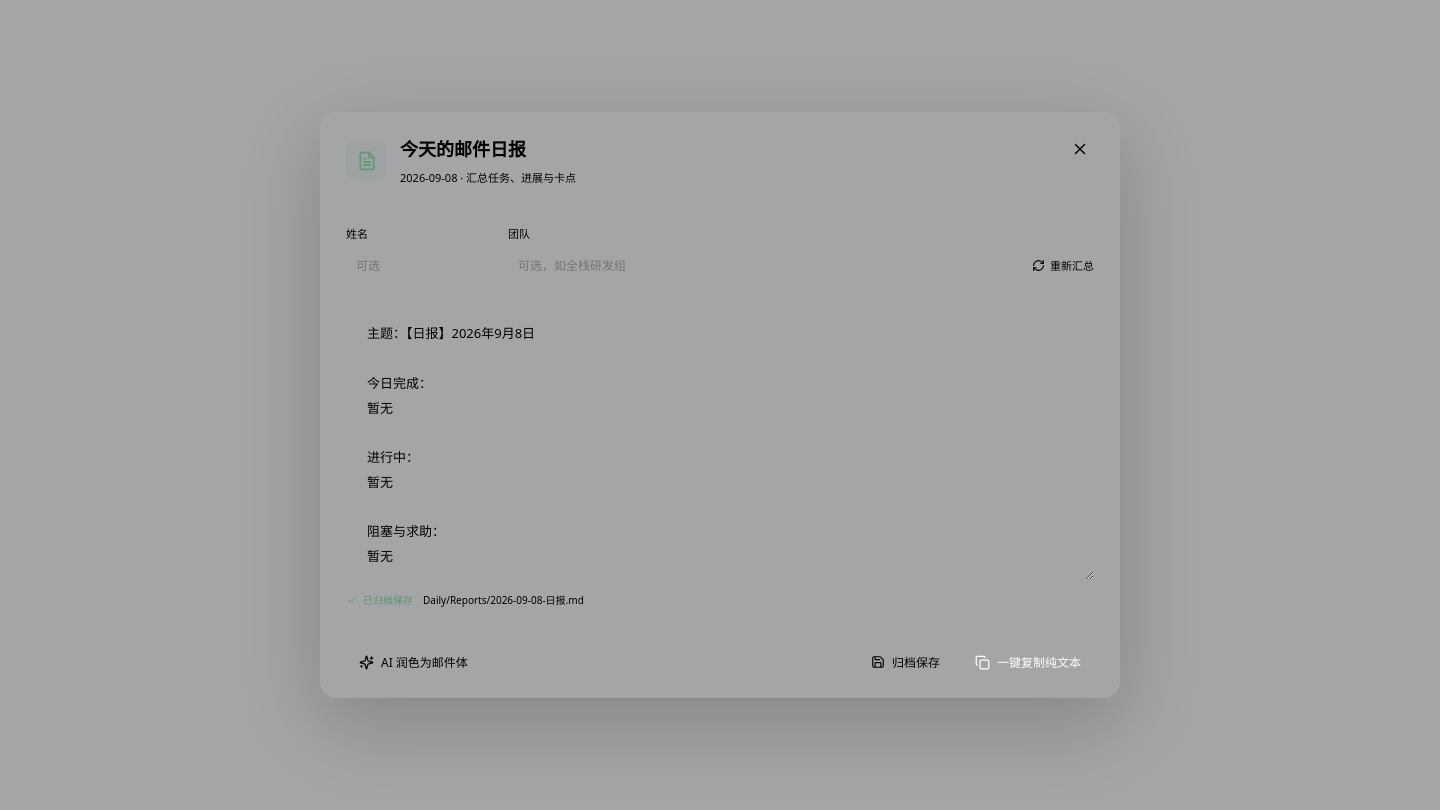
Test: daily report archive › automatically creates a Markdown report and copies plain corporate email text
Click the button with test id "copy-report" at (1028, 662), box [962,644,1094,682]
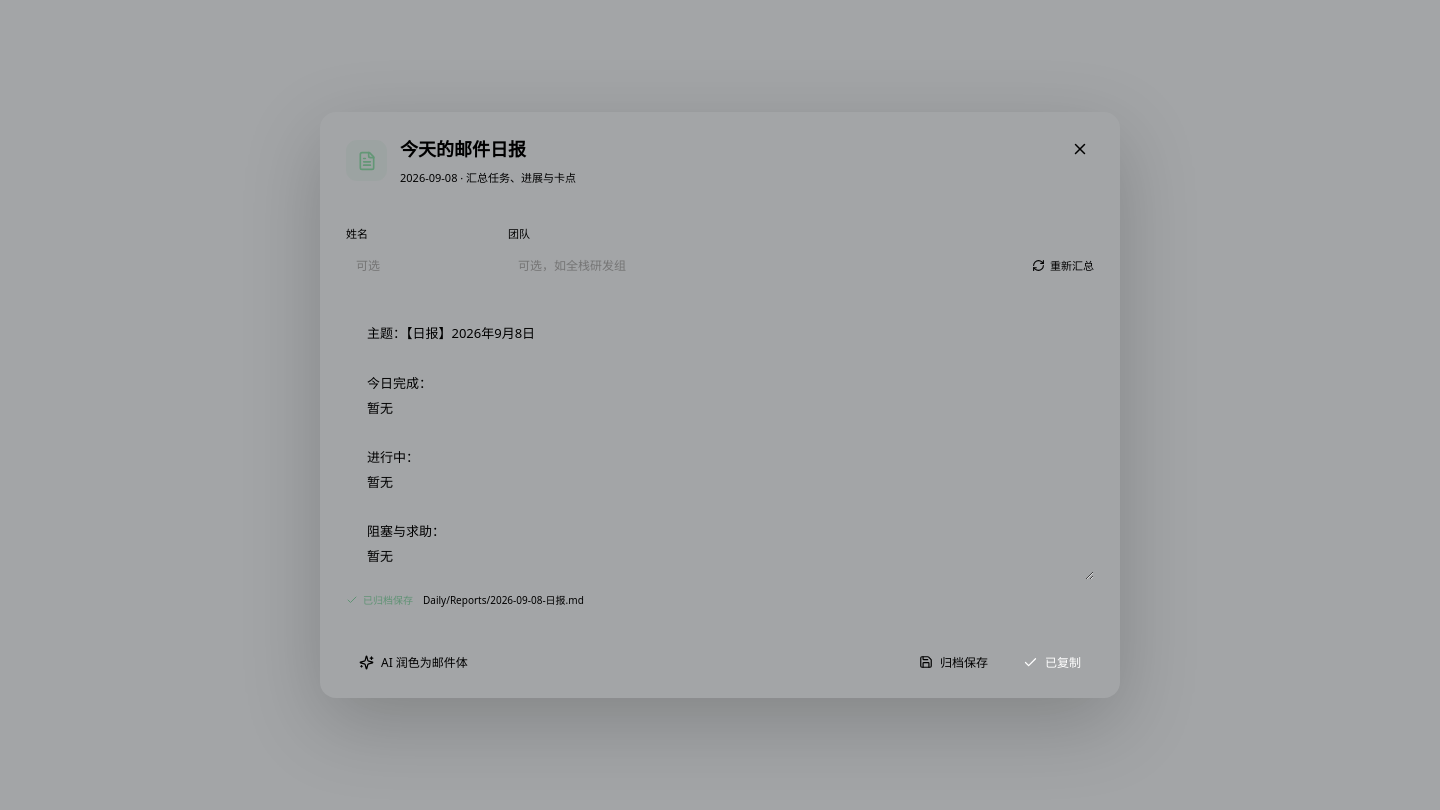
Now the text "已复制" is shown, box [1010,644,1094,682]
